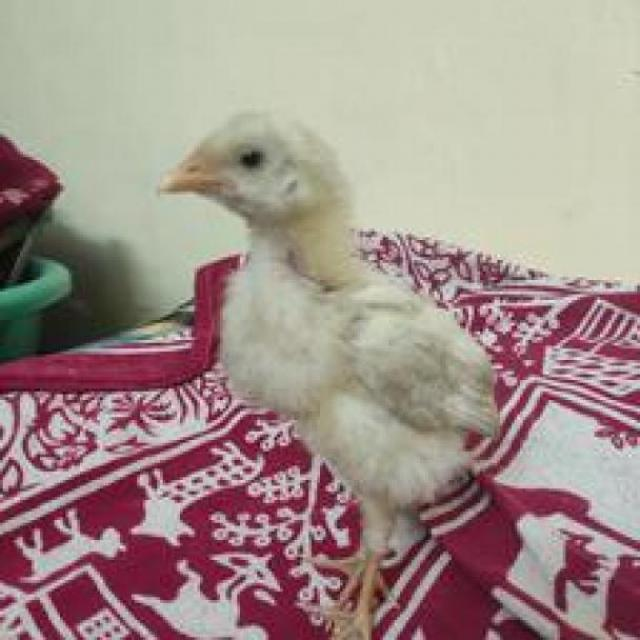Chicken: (163, 94, 503, 640)
